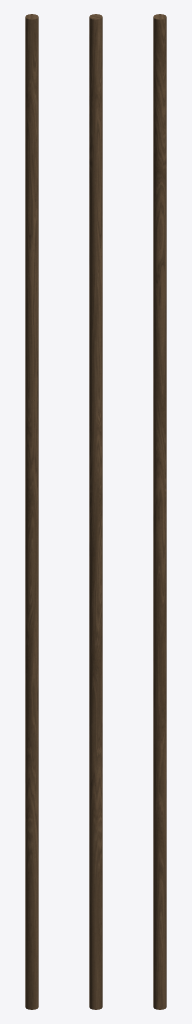
The model's file is AnkaliaStaff.FBX.
The picture shows the model from 3 angles, left to right: view 1: azimuth 90°, elevation 25°; view 2: azimuth 150°, elevation 25°; view 3: azimuth 270°, elevation 25°; orthographic projection.
Visible parts, largest first — view 1: Cylinder001; view 2: Cylinder001; view 3: Cylinder001.
Part boxes in pixels (bbox=[...]): Cylinder001: bbox=[25, 14, 38, 1009]; Cylinder001: bbox=[89, 14, 102, 1009]; Cylinder001: bbox=[153, 14, 166, 1009].
Size of the model in its own units: 1.25 by 102 by 1.25.
Materials: 1 (1 with a texture image).
